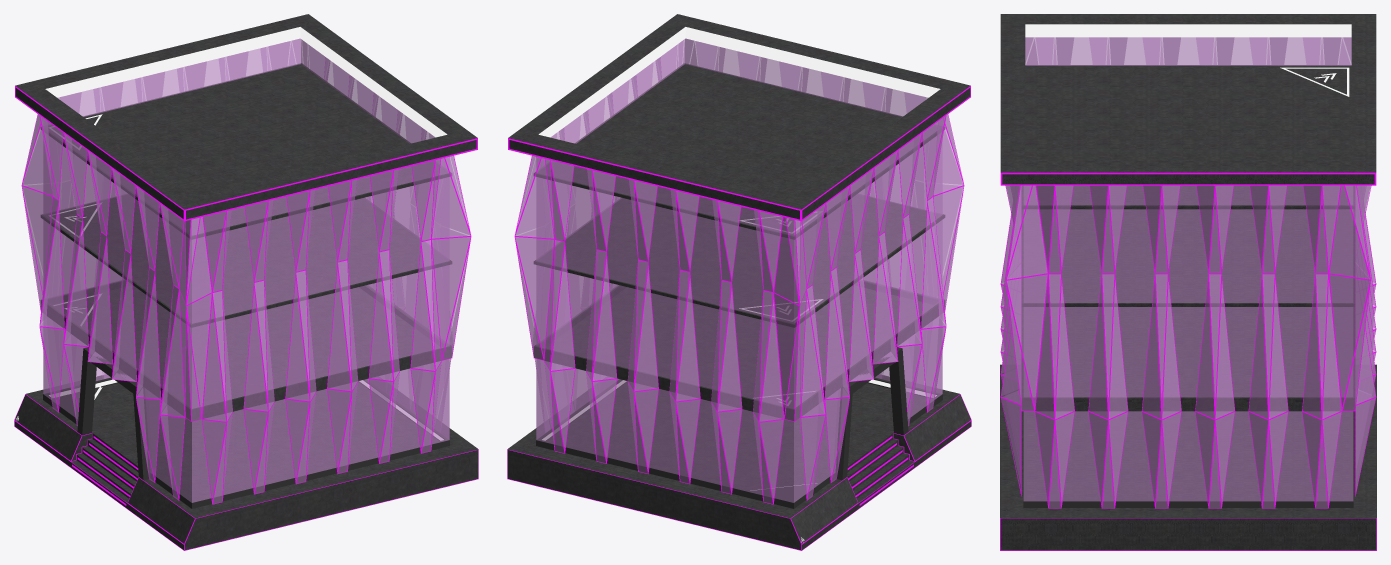
File: Dhingia Builds Pink 1x1.glb
The picture shows the model from 3 angles, left to right: view 1: azimuth 30°, elevation 25°; view 2: azimuth 150°, elevation 25°; view 3: azimuth 270°, elevation 25°; orthographic projection. The views are drawn at different scales.
Visible parts, largest first — view 1: Mesh_356, Design 1#1, Mesh_0, Mesh_298, Mesh_101, Mesh_199, Mesh_299, Mesh_357; view 2: Mesh_356, Design 1#1, Mesh_0, Mesh_298, Mesh_101, Mesh_199, Mesh_299, Mesh_357; view 3: Mesh_356, Design 1#1, Mesh_0, Mesh_298, Mesh_101, Mesh_199, Mesh_299, Mesh_357.
Boxes of the visible parts, box(x1,y1,x2,y2) form: Mesh_356: box(43, 38, 449, 502); Design 1#1: box(21, 39, 471, 504); Mesh_0: box(14, 375, 478, 550); Mesh_298: box(41, 63, 451, 239); Mesh_101: box(41, 281, 451, 420); Mesh_199: box(41, 195, 451, 327); Mesh_299: box(15, 14, 477, 221); Mesh_357: box(43, 347, 449, 508); Mesh_356: box(536, 38, 942, 502); Design 1#1: box(514, 39, 964, 504); Mesh_0: box(507, 375, 971, 550); Mesh_298: box(534, 63, 944, 239); Mesh_101: box(534, 281, 944, 420); Mesh_199: box(534, 195, 944, 327); Mesh_299: box(508, 14, 970, 221); Mesh_357: box(536, 347, 942, 508); Mesh_356: box(1023, 37, 1353, 501); Design 1#1: box(1000, 37, 1376, 508); Mesh_0: box(1000, 364, 1376, 550); Mesh_298: box(1022, 65, 1354, 209); Mesh_101: box(1022, 307, 1354, 411); Mesh_199: box(1022, 209, 1354, 306); Mesh_299: box(1000, 14, 1376, 185); Mesh_357: box(1023, 411, 1353, 507).
Size of what is drawn, in the model's own units: 16 by 17.7 by 16.
6 materials, 1 textured.
